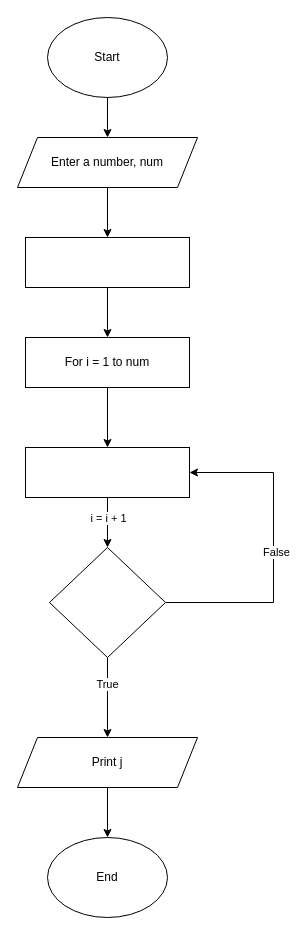
The diagram is 307 pixels wide and 935 high, and some of its shapes have lost their labels. Each missing label, with the centre of its shape:
"If i > num" goes at (x=107, y=602).
"j = 1" goes at (x=107, y=262).
"j = j*i" goes at (x=107, y=472).
